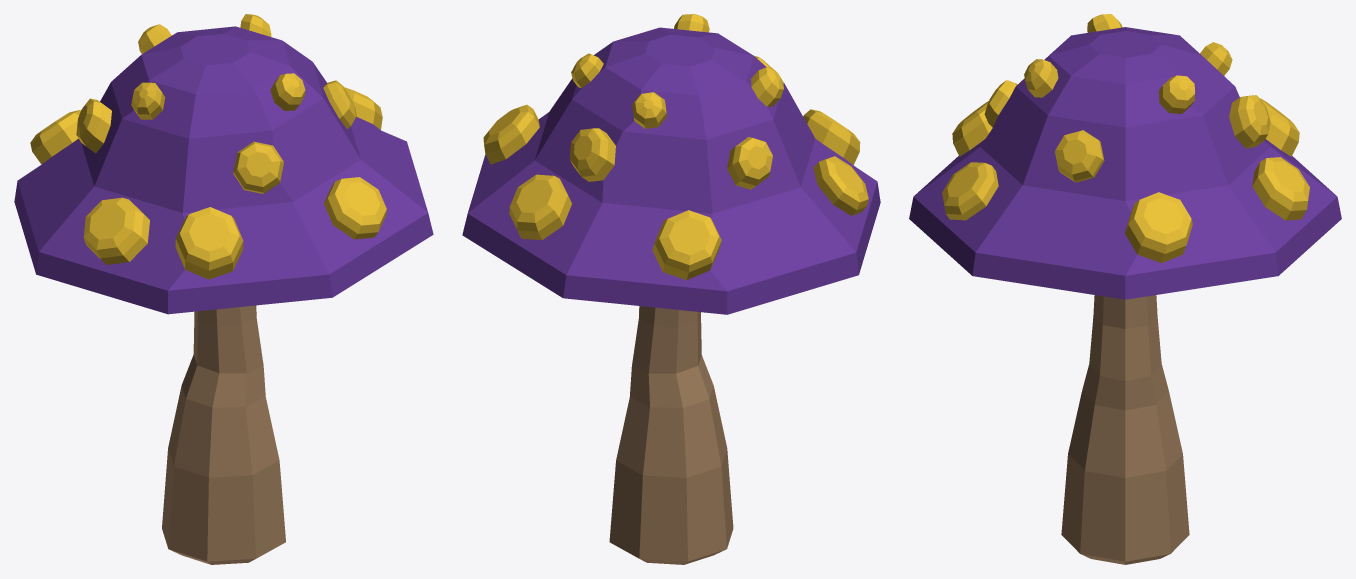
The model's file is Mushroom 4.fbx.
3 views of the same model, side by side, from view 1: azimuth 30°, elevation 25°; view 2: azimuth 150°, elevation 25°; view 3: azimuth 270°, elevation 25° (orthographic).
Visible parts, largest first — view 1: Mushroom 2 Spots; view 2: Mushroom 2 Spots; view 3: Mushroom 2 Spots.
Boxes of the visible parts, x1,y1,x2,y2 form: Mushroom 2 Spots: (14, 14, 433, 564); Mushroom 2 Spots: (462, 14, 880, 564); Mushroom 2 Spots: (909, 14, 1341, 564).
Bounding box in the file's own units: 14.81 × 18.81 × 14.83.
